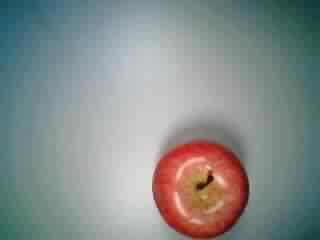apple: (150, 134, 254, 238)
